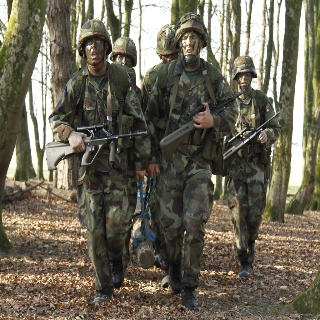rifle: (158, 88, 245, 159), (45, 124, 148, 171), (220, 110, 281, 161)
